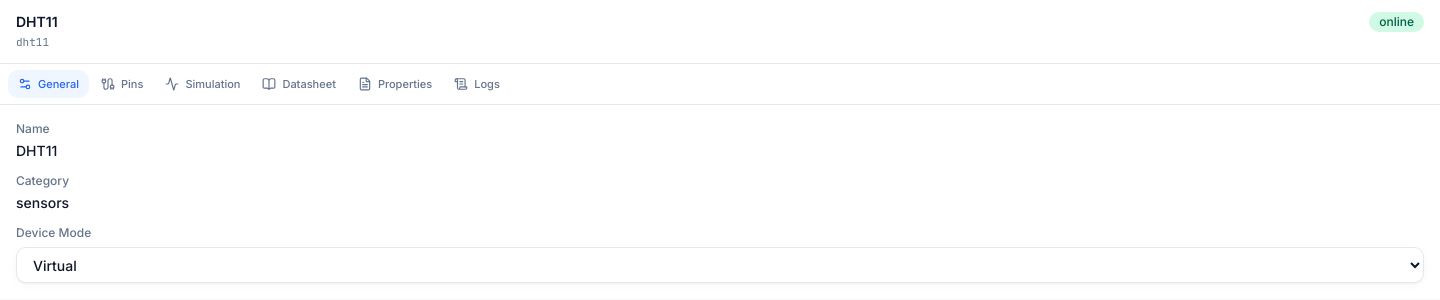
Scenario: PropertyInspector › shows properties for selected node
Expected: the heading "DHT11" is shown, [16,12,58,32]
Click the tab "Simulation": (203, 84) [155,70,250,98]
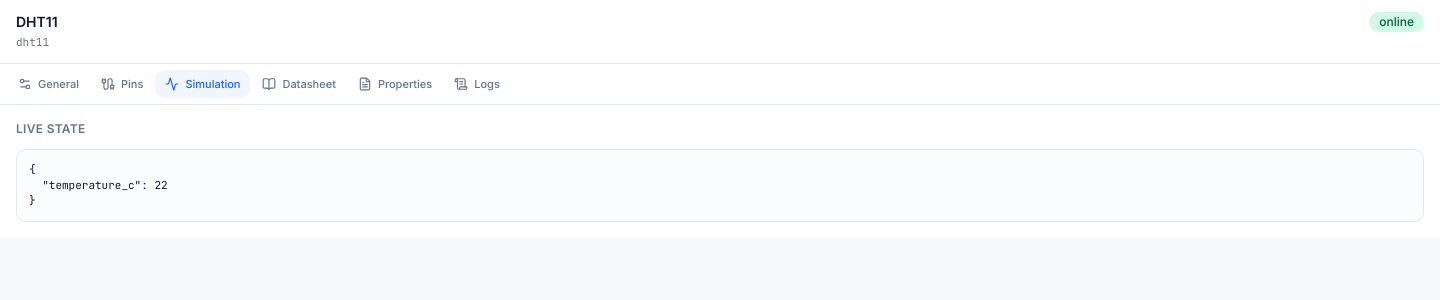
Result: the heading "Live State" is shown at [16,121,86,136]
Click the tab "Properties": (395, 84) [348,70,442,98]
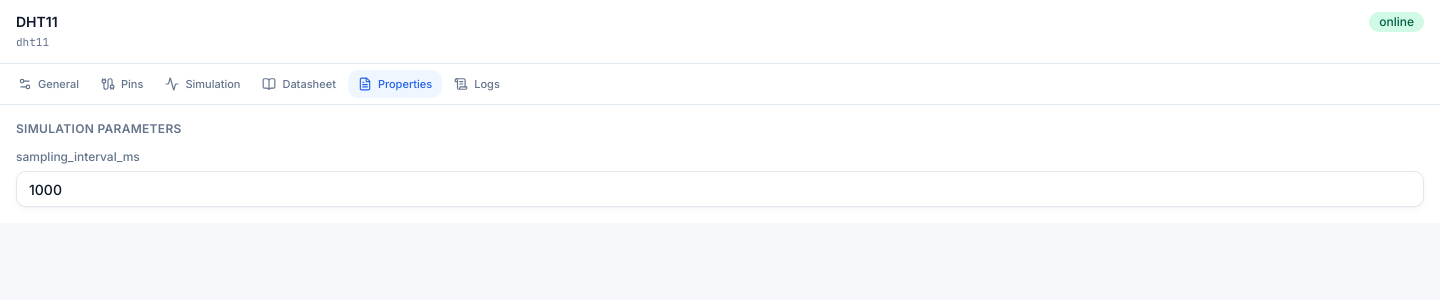
Result: the heading "Simulation Parameters" is shown at [16,121,182,136]
